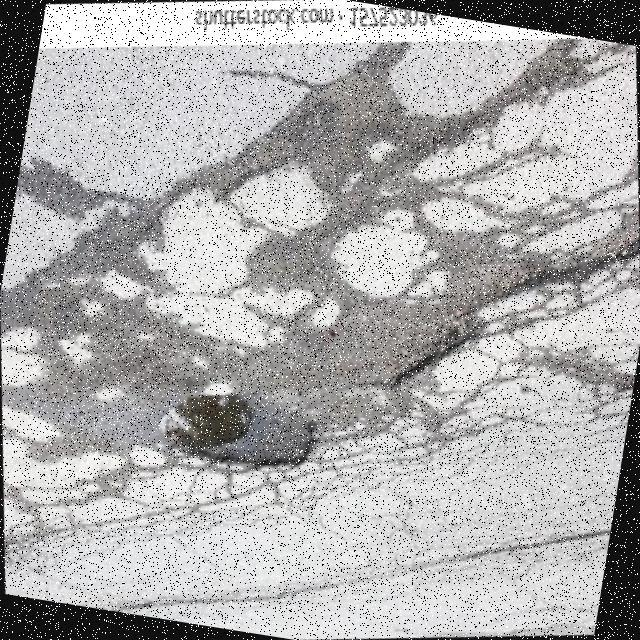Pothole: (159, 393, 315, 466)
